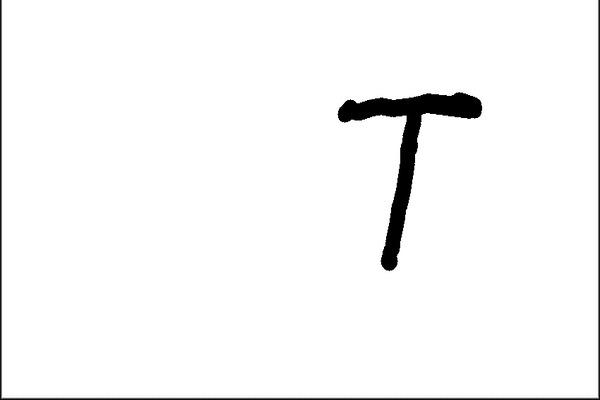T: (336, 86, 484, 272)
